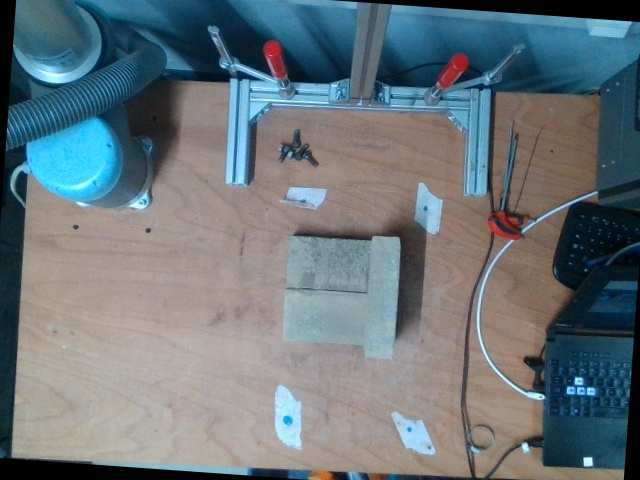brick-side: (364, 237, 401, 358)
